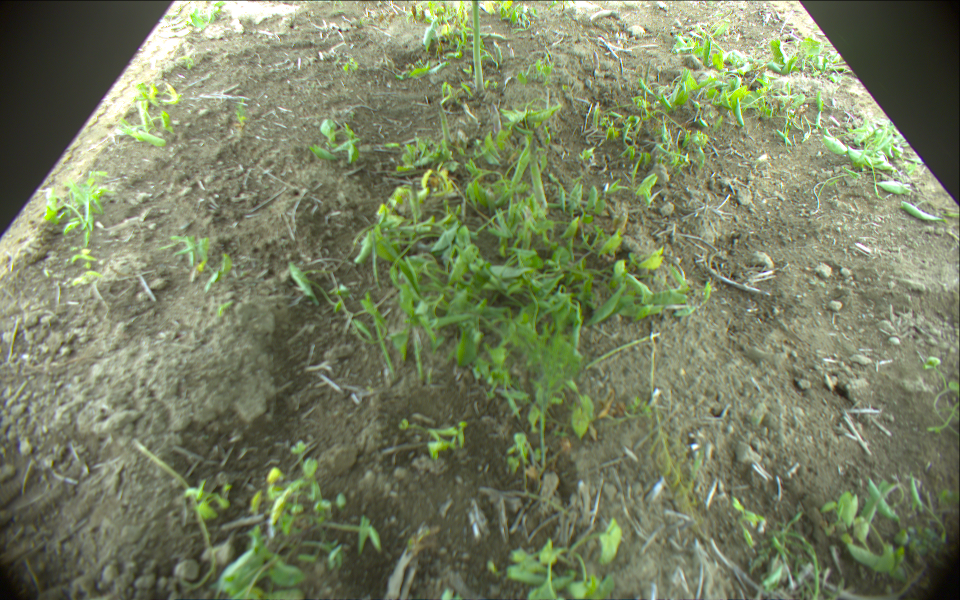aspa: (469, 1, 485, 92)
